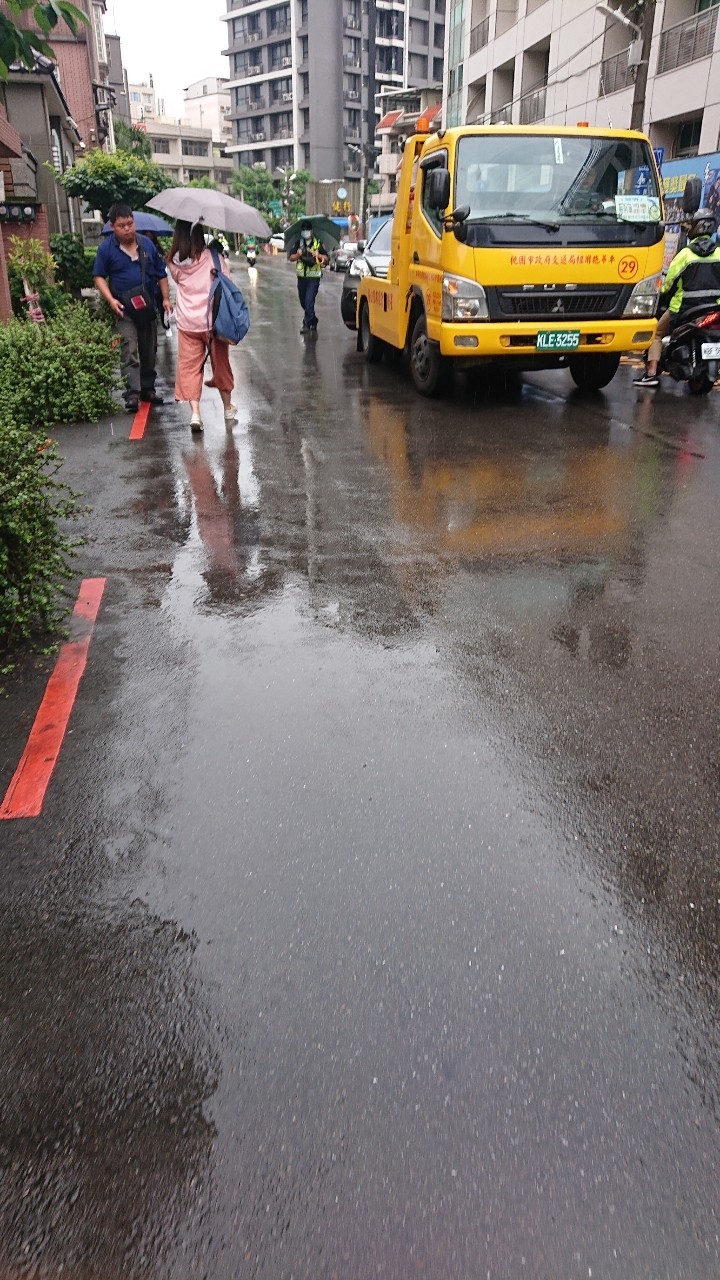people: (163, 225, 236, 431), (101, 196, 165, 374), (667, 206, 720, 374), (289, 219, 322, 345)
